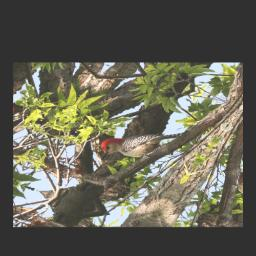Woodpecker: (89, 111, 188, 177)
